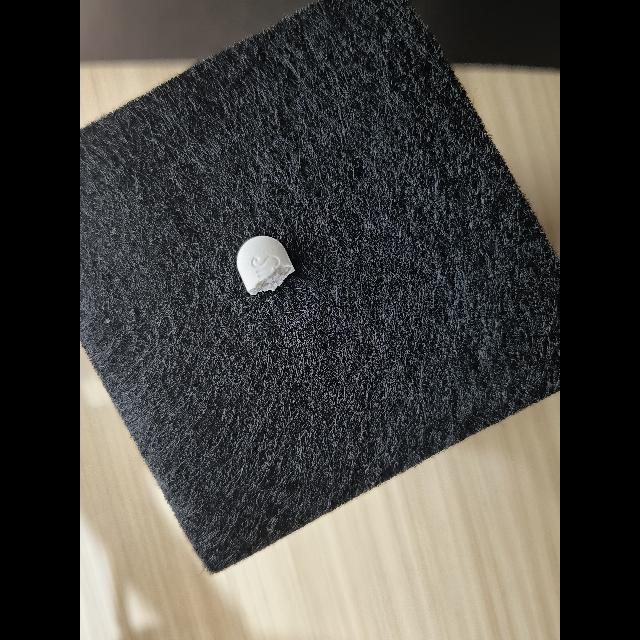Chipped Pill: (237, 236, 295, 295)
